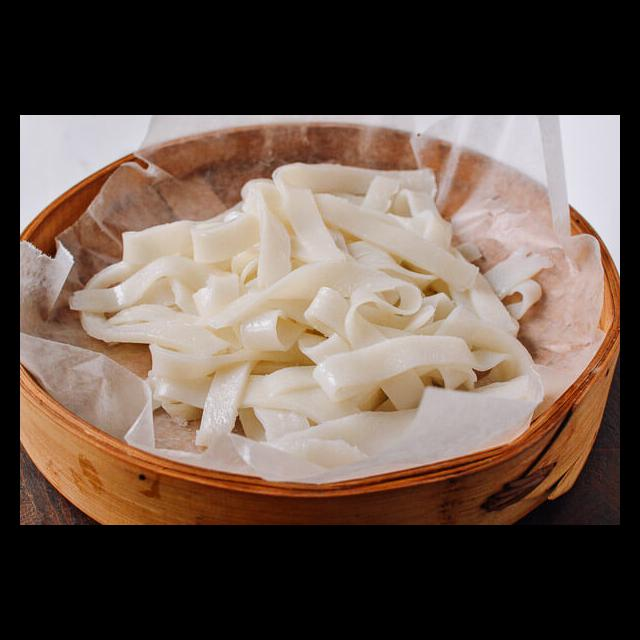noodles: (113, 167, 521, 425)
